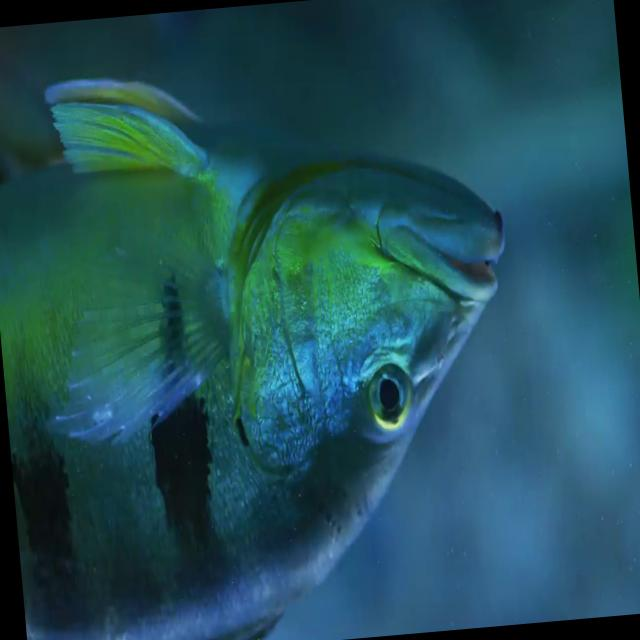fish: (0, 37, 545, 640)
